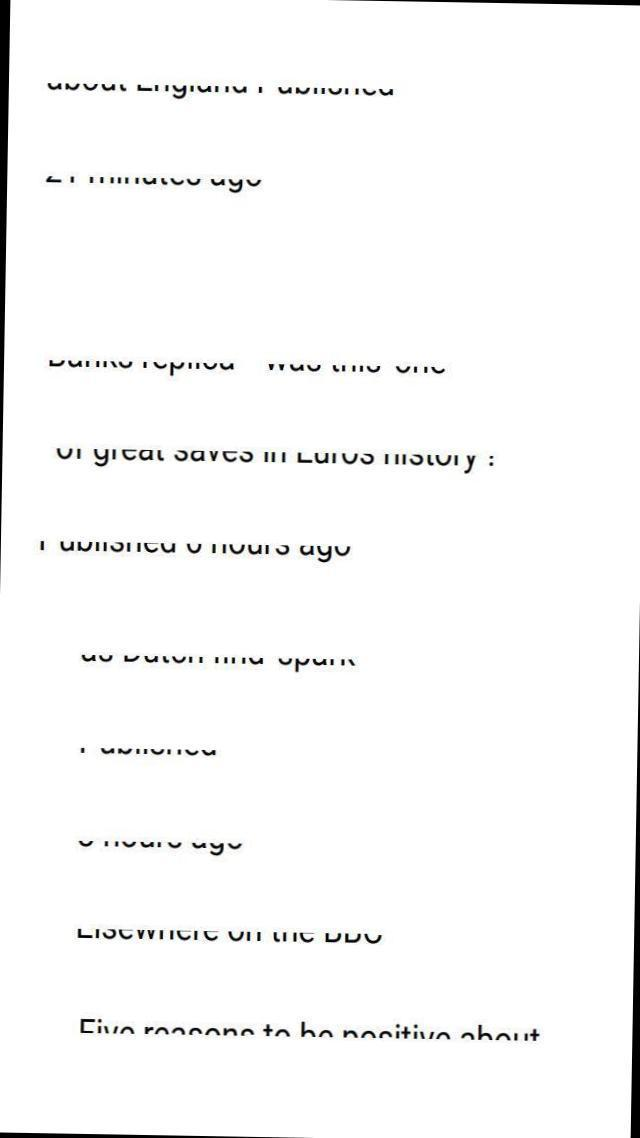WS3: (47, 444, 513, 478), (75, 1012, 554, 1044), (41, 73, 410, 106), (28, 536, 358, 564), (75, 924, 392, 953), (72, 649, 366, 679), (42, 165, 270, 196), (43, 356, 237, 380), (66, 836, 252, 861), (64, 740, 218, 764), (260, 360, 455, 377)
